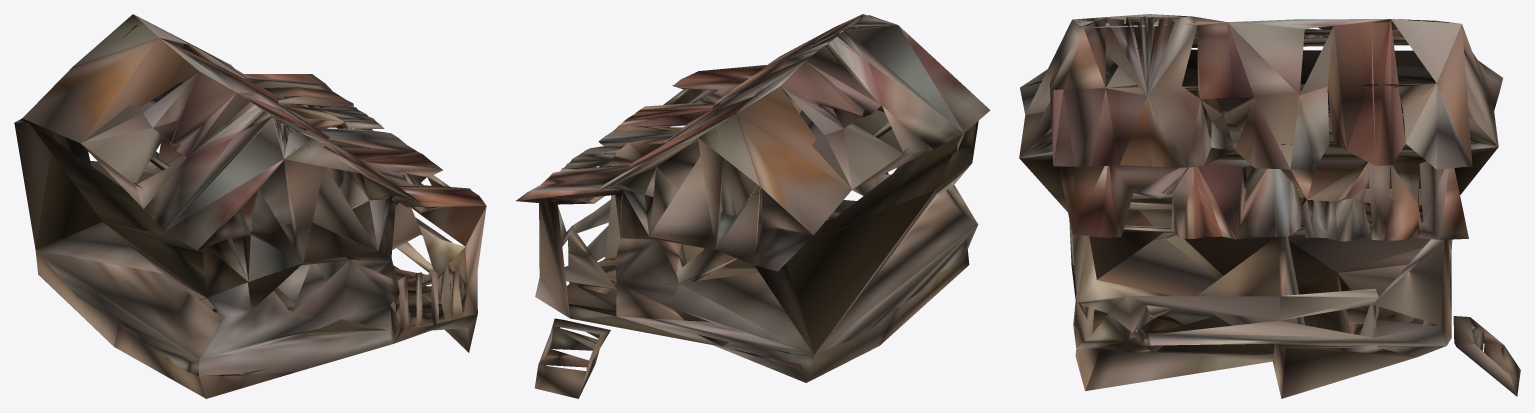
The model's file is stilt_shack_lod1.glb.
The picture shows the model from 3 angles, left to right: view 1: azimuth 30°, elevation 25°; view 2: azimuth 150°, elevation 25°; view 3: azimuth 270°, elevation 25°; orthographic projection. The views are drawn at different scales.
Visible parts, largest first — view 1: stilt_shack; view 2: stilt_shack; view 3: stilt_shack.
Boxes of the visible parts, bbox=[...] form: stilt_shack: bbox=[14, 14, 486, 398]; stilt_shack: bbox=[516, 14, 990, 398]; stilt_shack: bbox=[1019, 14, 1520, 398].
Size of the model in its own units: 0.7888 by 0.6513 by 0.9752.
Materials: 1 (1 with a texture image).
